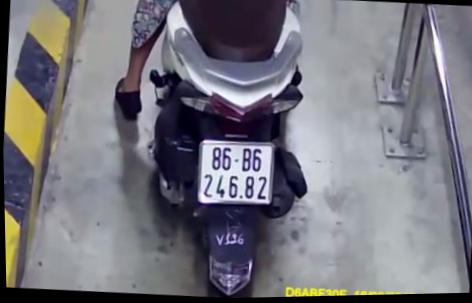LP: (194, 138, 275, 209)
